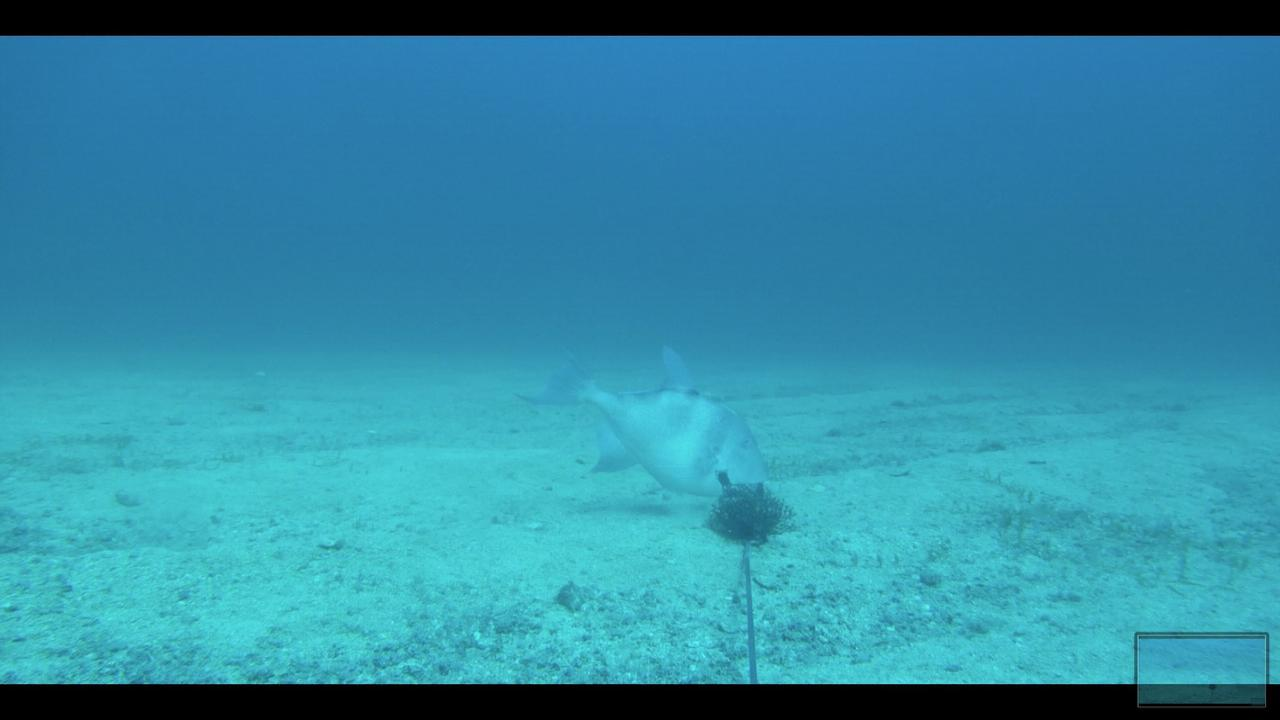balistes: (514, 336, 772, 496)
